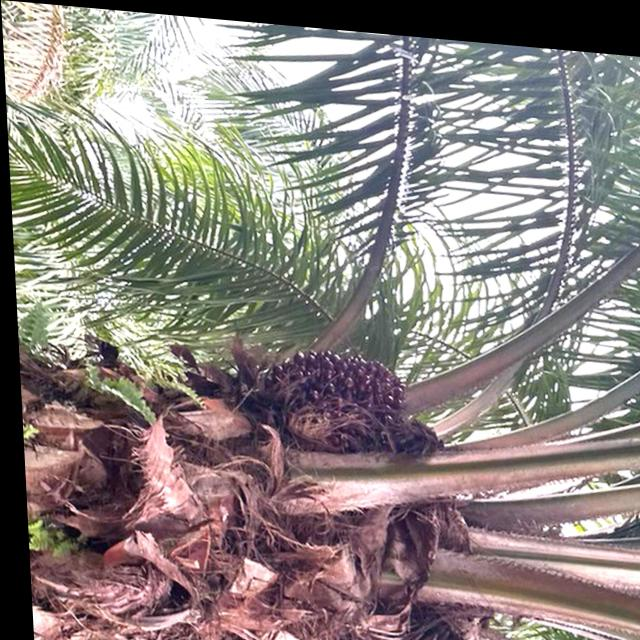ripe: (257, 324, 418, 453)
